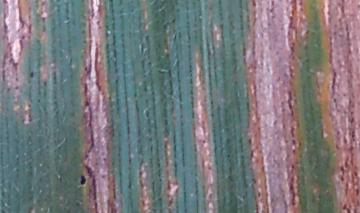tarspot: (78, 172, 88, 189), (27, 68, 37, 81)
